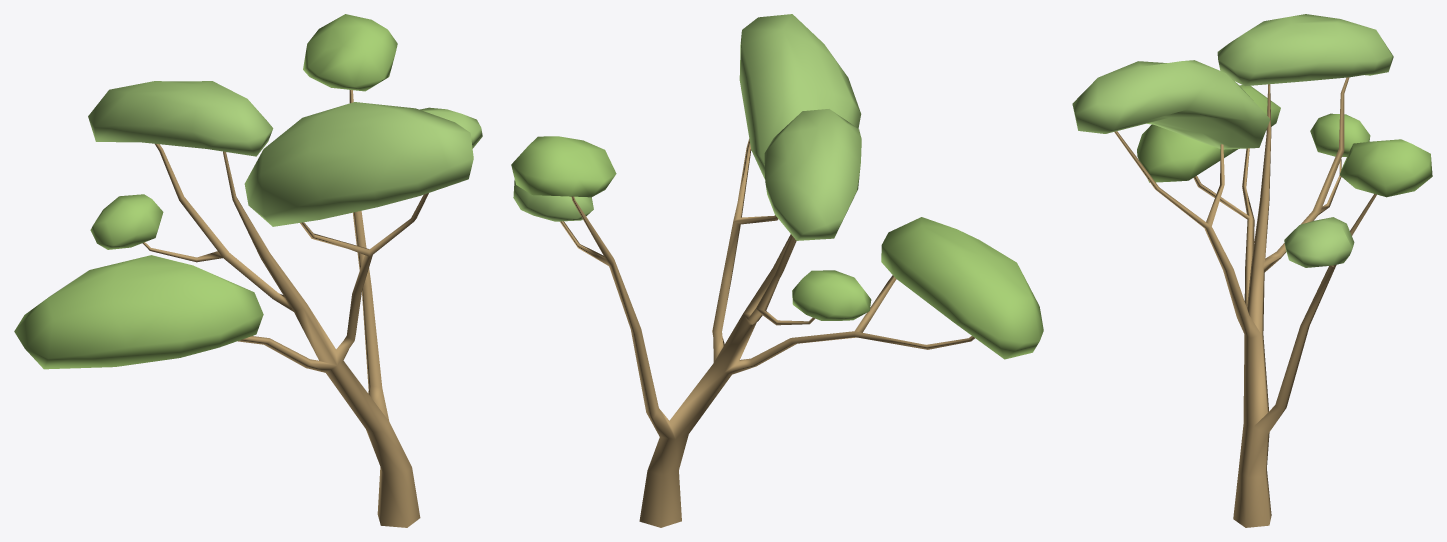
File: acacia-tree-l-03.glb
3 renders of one model, left to right at view 1: azimuth 30°, elevation 25°; view 2: azimuth 150°, elevation 25°; view 3: azimuth 270°, elevation 25°, orthographic. The views are drawn at different scales.
Visible parts, largest first — view 1: Acacia_Tree_l_03; view 2: Acacia_Tree_l_03; view 3: Acacia_Tree_l_03.
Boxes of the visible parts, left/top/right/bottom form: Acacia_Tree_l_03: left=14, top=14, right=482, bottom=527; Acacia_Tree_l_03: left=511, top=14, right=1043, bottom=527; Acacia_Tree_l_03: left=1072, top=14, right=1432, bottom=527.
Bounding box in the file's own units: 12.79 × 11.61 × 8.91.
1 material, 1 textured.
